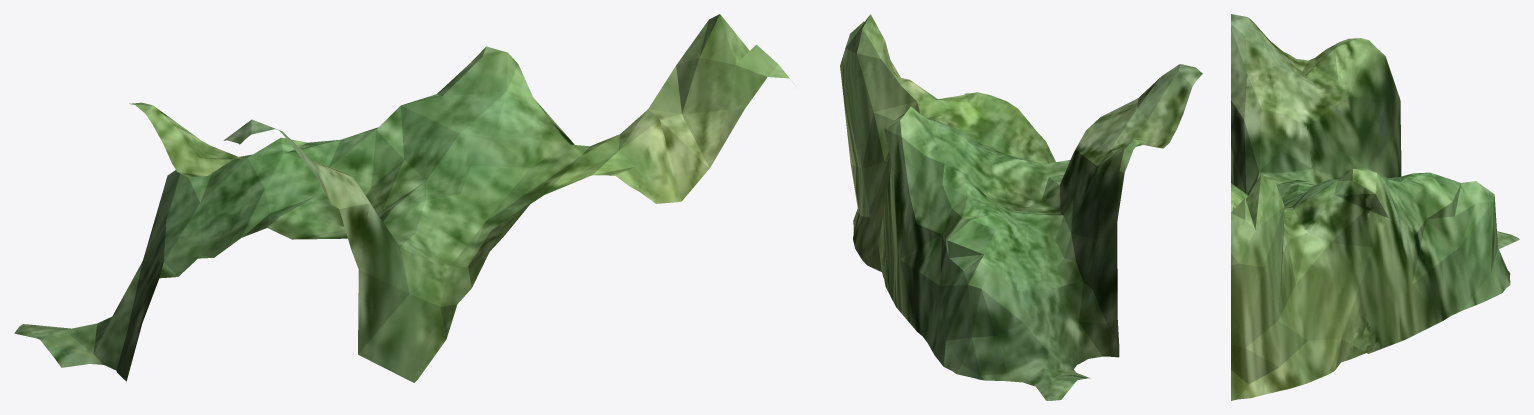
3 renders of one model, left to right at view 1: azimuth 30°, elevation 25°; view 2: azimuth 150°, elevation 25°; view 3: azimuth 270°, elevation 25°, orthographic. The views are drawn at different scales.
Size of the model in its own units: 2.06 by 1.25 by 1.45.
1 material, 1 textured.
